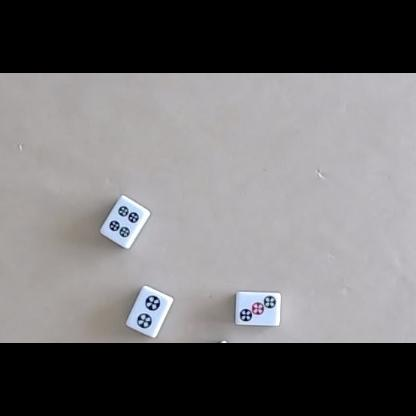2p: (136, 294, 161, 329)
3p: (240, 296, 277, 322)
4p: (109, 206, 139, 238)
